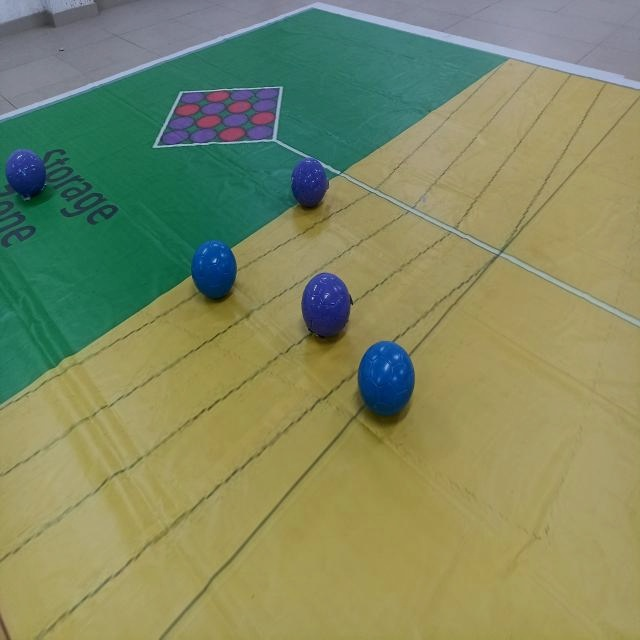blue_ball: (358, 342, 413, 415), (194, 242, 236, 298)
purple_ball: (302, 274, 348, 336), (8, 149, 46, 194), (292, 161, 324, 206)
